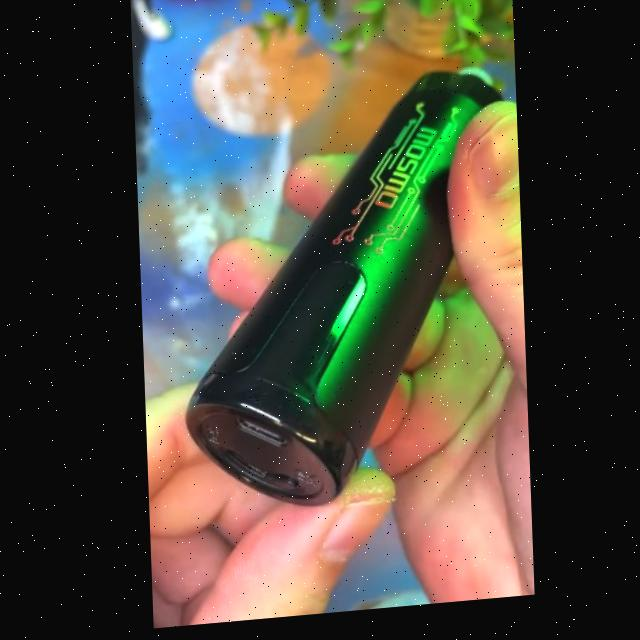vape: (171, 73, 514, 522)
